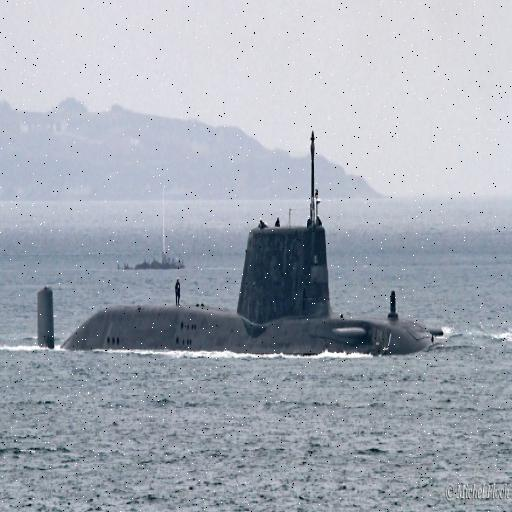submarine: (28, 112, 448, 351)
